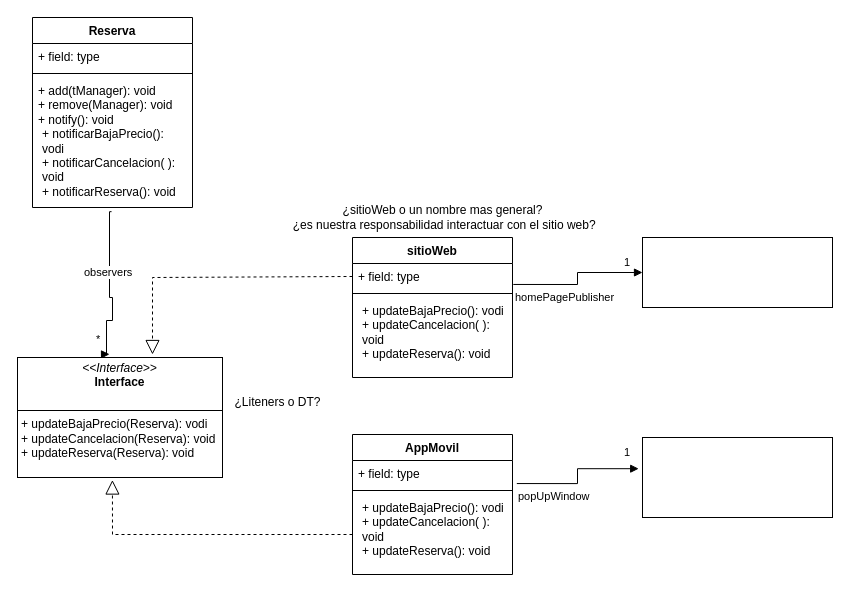
The diagram is 850 pixels wide and 595 high, and some of its shapes have lost their labels. The shapes that lost their labels are listed below. From the top down, each one's centre as x and y in pixels, then its label:
point 737,272: <<Interface>> HomePagePublisher +publish(String ); void
point 737,477: <<Interface>> PopUpWindow popUp(String, String , int): void
